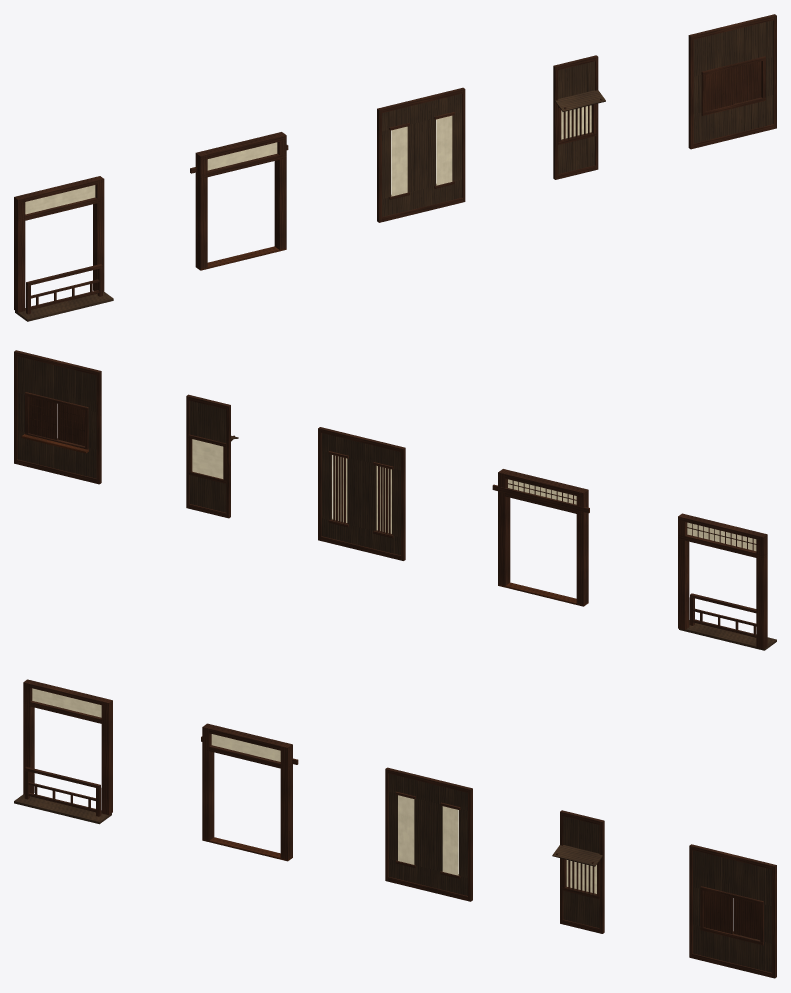
File: windows_openings.glb
3 views of the same model, one above another, from view 1: azimuth 30°, elevation 25°; view 2: azimuth 150°, elevation 25°; view 3: azimuth 330°, elevation 25° (orthographic).
Visible parts, largest first — view 1: IC15_Window_Shoji_Rectangular__Mesh, IC15_Window_Narrow_Vertical__Mesh, IC15_Opening_Balcony__Mesh, IC15_Opening_Passage__Mesh, IC15_Window_Renji_Frame__Mesh; view 2: IC15_Window_Shoji_Rectangular__Mesh, IC15_Window_Narrow_Vertical__Mesh, IC15_Opening_Balcony__Mesh, IC15_Opening_Passage__Mesh, IC15_Window_Renji_Frame__Mesh; view 3: IC15_Window_Shoji_Rectangular__Mesh, IC15_Window_Narrow_Vertical__Mesh, IC15_Opening_Balcony__Mesh, IC15_Opening_Passage__Mesh, IC15_Window_Renji_Frame__Mesh.
Boxes of the visible parts, x1,y1,x2,y2 form: IC15_Window_Shoji_Rectangular__Mesh: [688, 14, 776, 149]; IC15_Window_Narrow_Vertical__Mesh: [377, 87, 465, 222]; IC15_Opening_Balcony__Mesh: [14, 176, 113, 321]; IC15_Opening_Passage__Mesh: [190, 132, 288, 270]; IC15_Window_Renji_Frame__Mesh: [553, 55, 605, 179]; IC15_Window_Shoji_Rectangular__Mesh: [14, 350, 101, 484]; IC15_Window_Narrow_Vertical__Mesh: [318, 427, 405, 560]; IC15_Opening_Balcony__Mesh: [678, 513, 776, 650]; IC15_Opening_Passage__Mesh: [492, 469, 589, 606]; IC15_Window_Renji_Frame__Mesh: [186, 394, 238, 518]; IC15_Window_Shoji_Rectangular__Mesh: [689, 844, 776, 978]; IC15_Window_Narrow_Vertical__Mesh: [385, 767, 472, 901]; IC15_Opening_Balcony__Mesh: [14, 679, 112, 824]; IC15_Opening_Passage__Mesh: [201, 723, 298, 861]; IC15_Window_Renji_Frame__Mesh: [552, 810, 604, 933].
Bounding box in the file's own units: 21.1 × 3.06 × 0.65.
4 materials, 4 textured.
